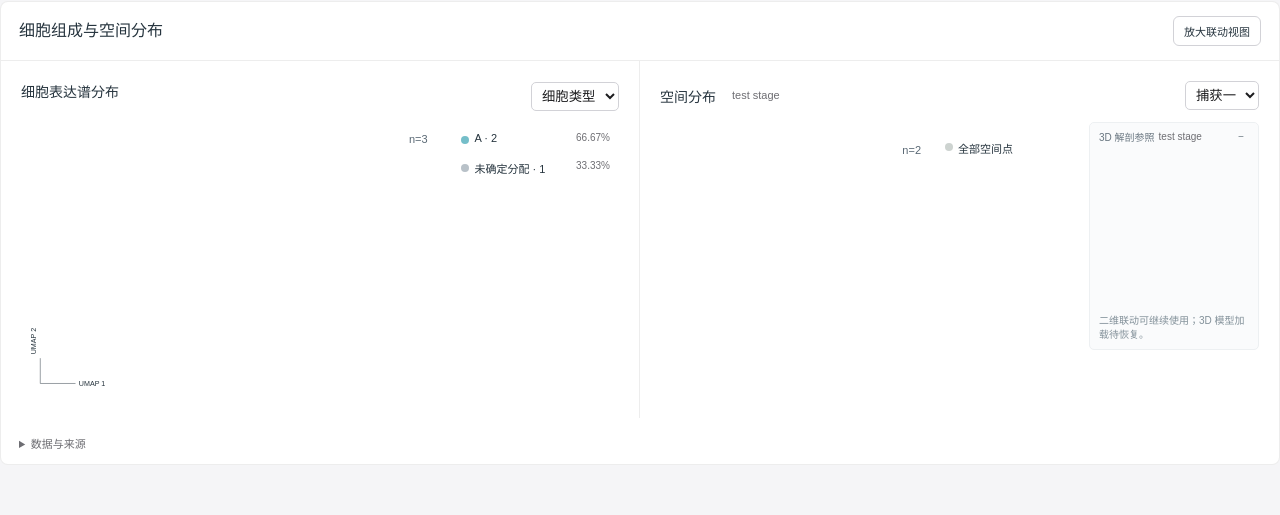
it: anatomy_failure_keeps_linked_plots_usable
The width and height of the screenshot is (1280, 515).
Expected: the text "二维联动可继续使用；3D 模型加载待恢复。" is shown, 1099,314 -> 1249,342
Click the button "A · 2 66.67%": x=535, y=138 454,125 -> 617,151
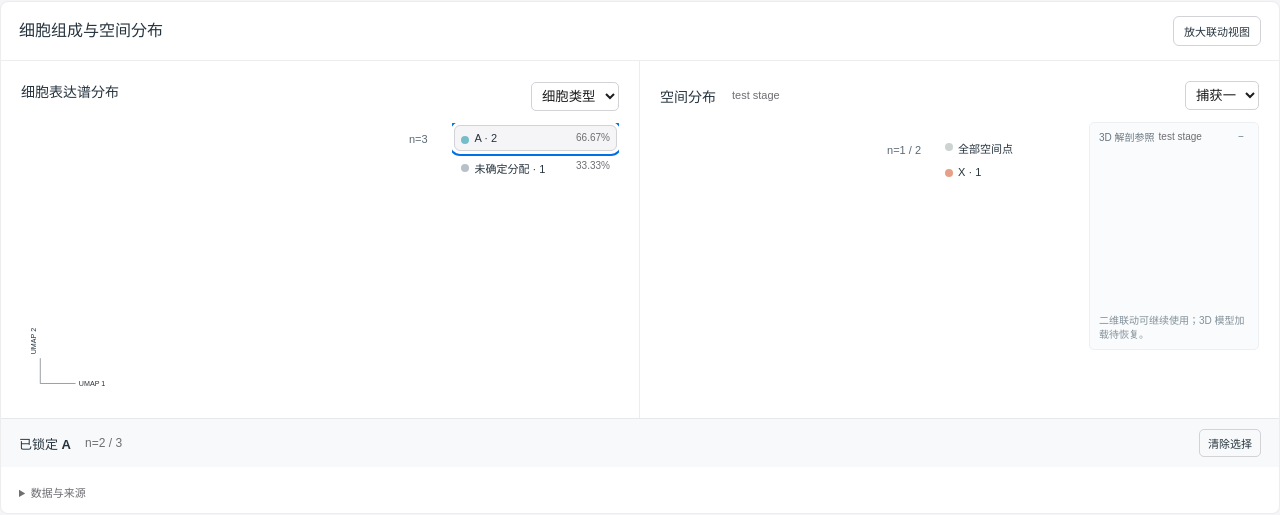
Expected: the text with test id "spatial-count" shows "1 / 2", 883,142 -> 925,159
